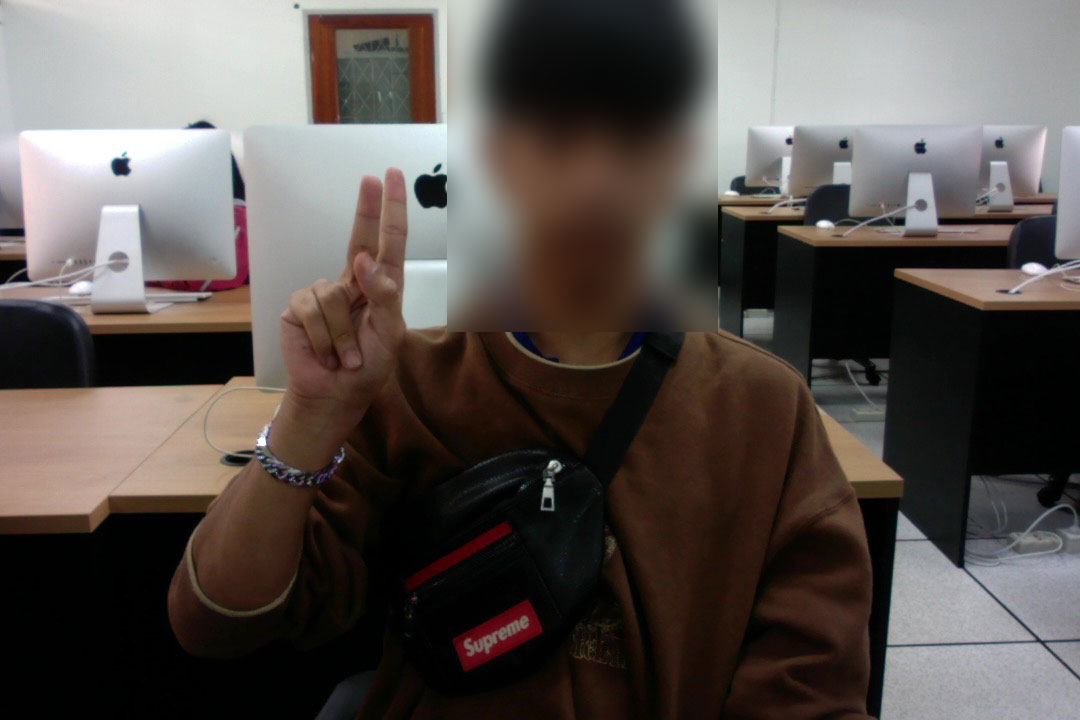ko: (271, 146, 417, 415)
